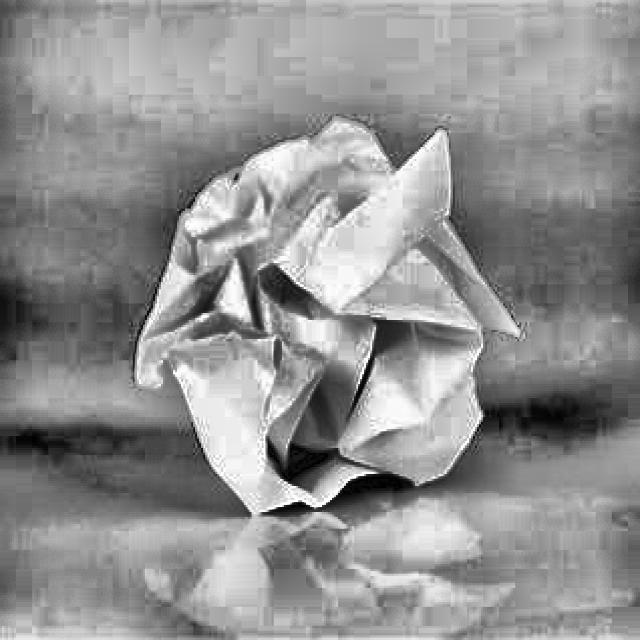Paper: (122, 119, 530, 535)
